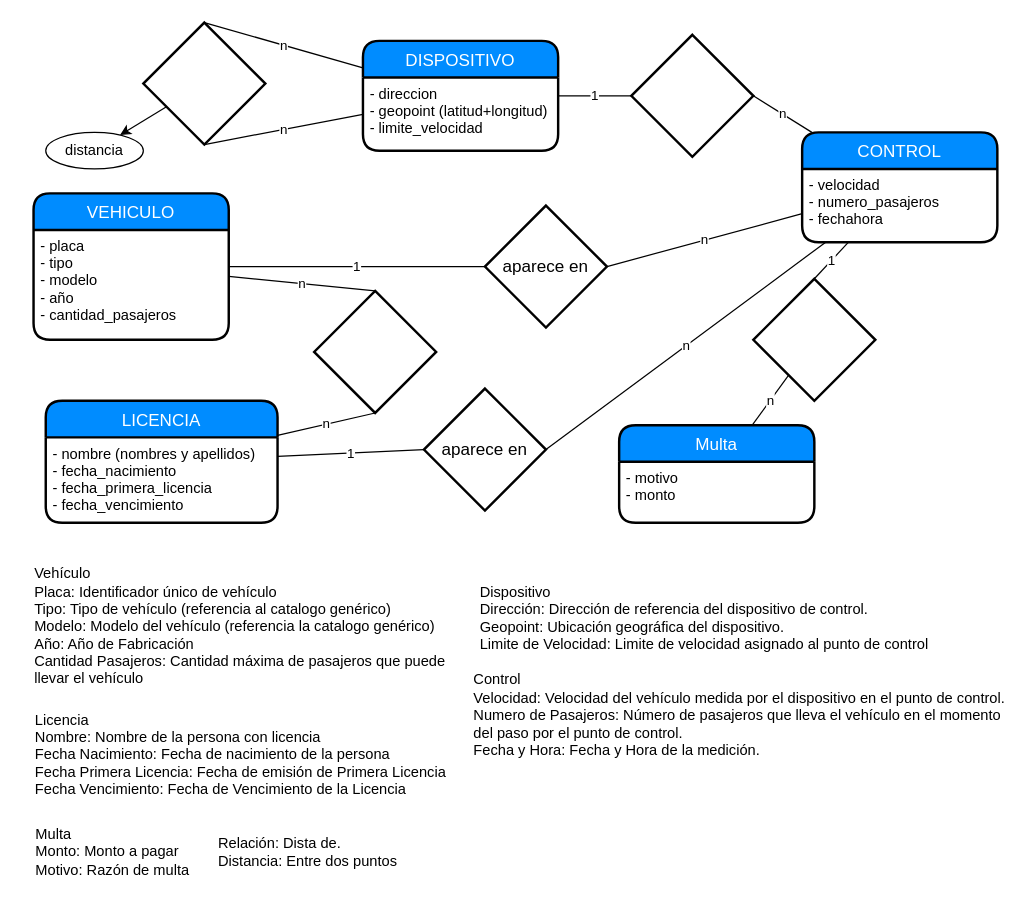
This 1030x909 diagram has some shape labels left out. The centre of each missing label's shape, as x and y in pixels:
"conduce" goes at pixel 374 351.
"dista de" goes at pixel 204 83.
"genera" goes at pixel 814 339.
"registrado en" goes at pixel 692 95.
